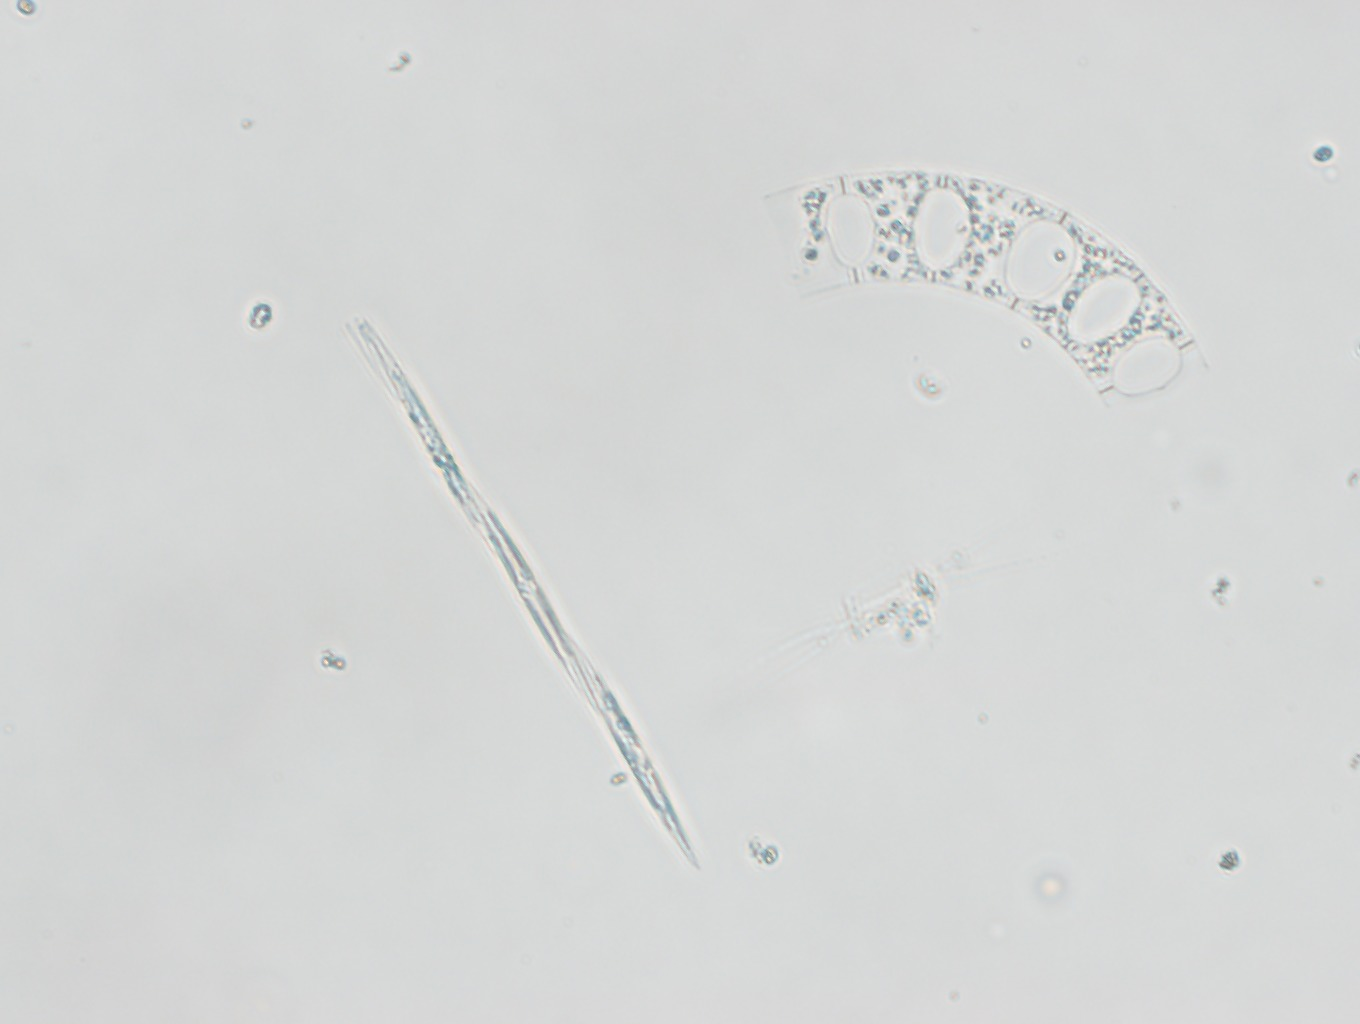eucampia: (762, 163, 1212, 412)
